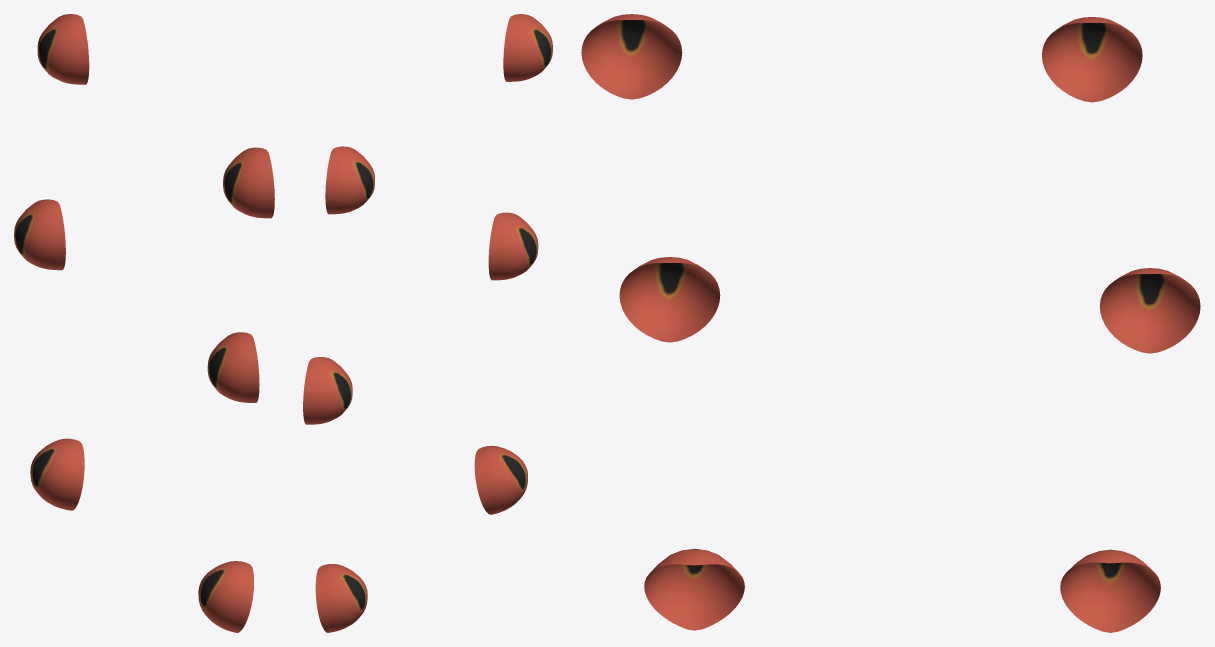
The model's file is Eyes.fbx.
3 views of the same model, side by side, from view 1: azimuth 30°, elevation 25°; view 2: azimuth 150°, elevation 25°; view 3: azimuth 270°, elevation 25° (orthographic). The views are drawn at different scales.
Visible parts, largest first — view 1: Eyes8, Eyes3, Eyes, Eyes7, Eyes1, Eyes9; view 2: Eyes8, Eyes3, Eyes7, Eyes9, Eyes1, Eyes; view 3: Eyes7, Eyes, Eyes1, Eyes9, Eyes3, Eyes8.
Boxes of the visible parts, x1,y1,x2,y2 form: Eyes8: [198, 561, 253, 632]; Eyes3: [30, 438, 84, 510]; Eyes: [223, 147, 274, 218]; Eyes7: [207, 332, 259, 402]; Eyes1: [14, 199, 65, 270]; Eyes9: [37, 14, 89, 84]; Eyes8: [474, 445, 527, 514]; Eyes3: [315, 564, 367, 632]; Eyes7: [488, 212, 538, 280]; Eyes9: [325, 146, 374, 214]; Eyes1: [303, 357, 352, 424]; Eyes: [503, 14, 552, 81]; Eyes7: [619, 257, 720, 342]; Eyes: [581, 14, 682, 99]; Eyes1: [1099, 268, 1200, 353]; Eyes9: [1042, 17, 1142, 102]; Eyes3: [1060, 549, 1160, 632]; Eyes8: [644, 548, 744, 630].
Size of the model in its own units: 0.3582 by 3.53 by 3.21.
Materials: 1 (1 with a texture image).
